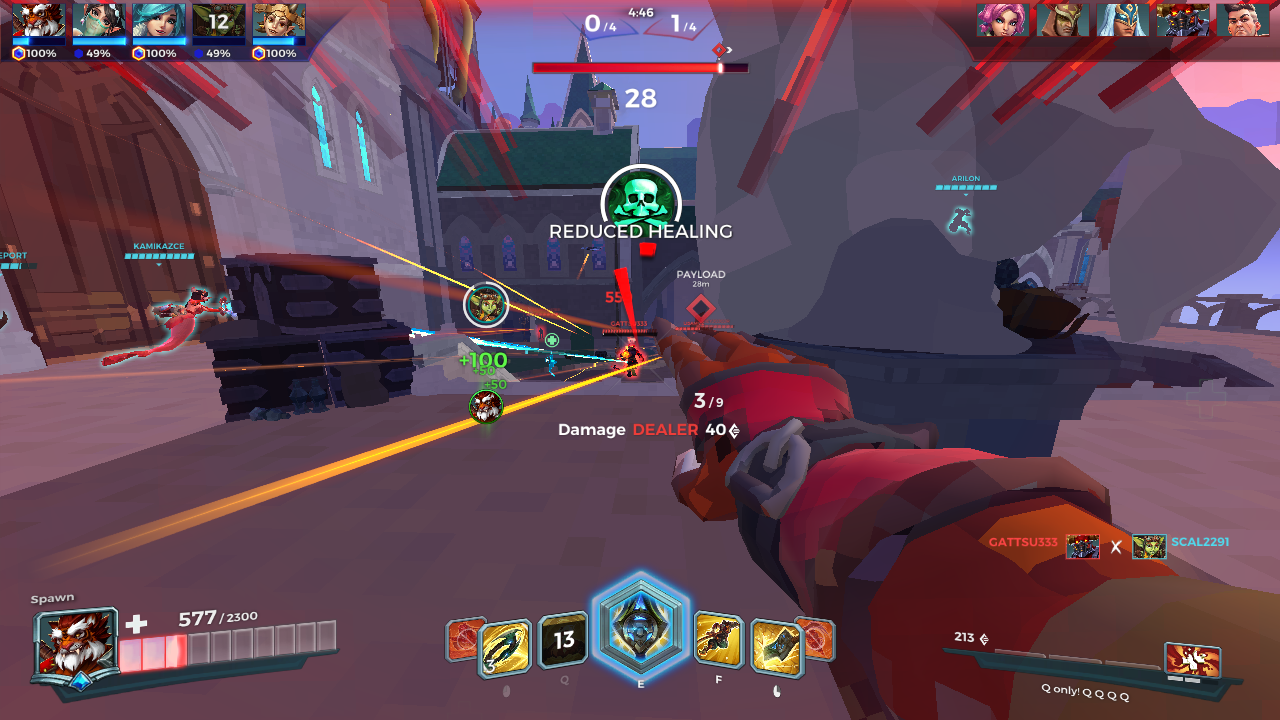model: (615, 342, 644, 378), (533, 322, 548, 346)
